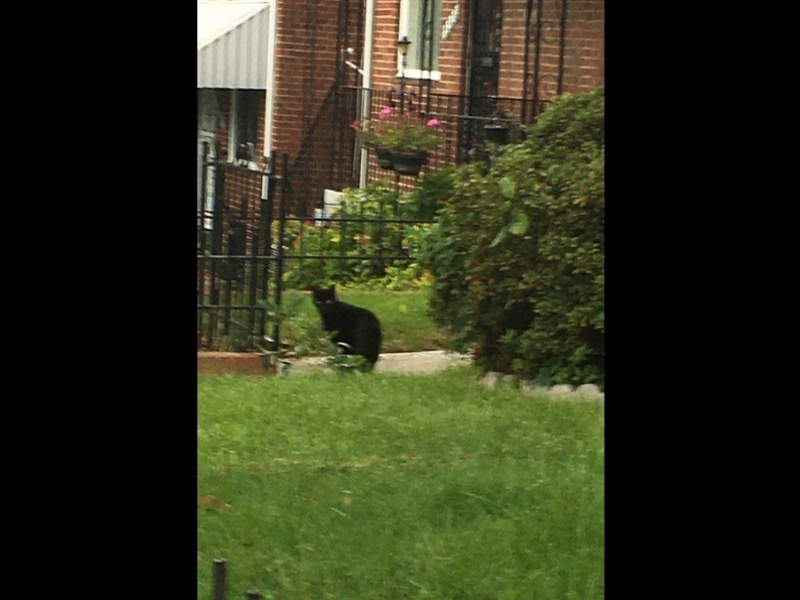cat: (310, 280, 386, 376)
